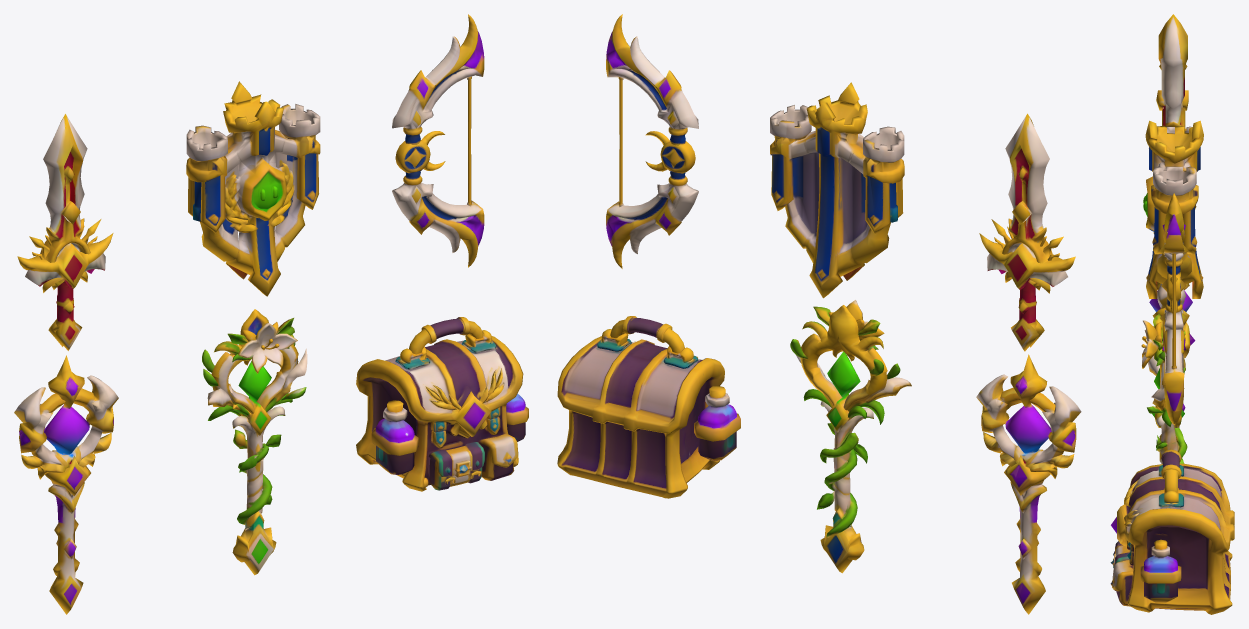
Rendered from legendary.glb.
The picture shows the model from 3 angles, left to right: view 1: azimuth 30°, elevation 25°; view 2: azimuth 150°, elevation 25°; view 3: azimuth 270°, elevation 25°; orthographic projection. The views are drawn at different scales.
Visible parts, largest first — view 1: tripo_88e698a5_3607_4692_96ba_a6ab57136007; view 2: tripo_88e698a5_3607_4692_96ba_a6ab57136007; view 3: tripo_88e698a5_3607_4692_96ba_a6ab57136007.
Boxes of the visible parts, bbox=[...] form: tripo_88e698a5_3607_4692_96ba_a6ab57136007: bbox=[14, 14, 528, 614]; tripo_88e698a5_3607_4692_96ba_a6ab57136007: bbox=[557, 14, 1081, 614]; tripo_88e698a5_3607_4692_96ba_a6ab57136007: bbox=[1110, 14, 1234, 614].
Bounding box in the file's own units: 0.9995 × 0.9722 × 0.2358.
1 material, 1 textured.
